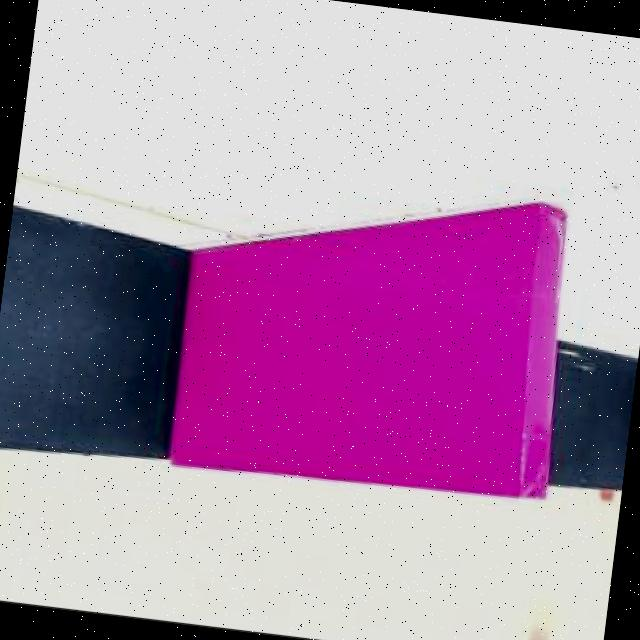xparking: (170, 248, 568, 499)
